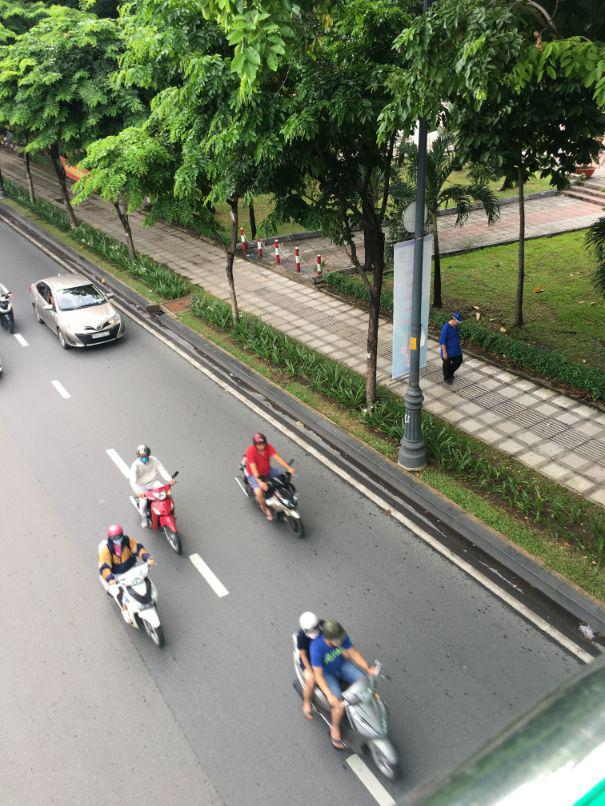car: (30, 277, 126, 351)
motorbike: (300, 624, 398, 779), (237, 450, 304, 534), (101, 567, 166, 648), (132, 474, 182, 556), (0, 282, 17, 335)
